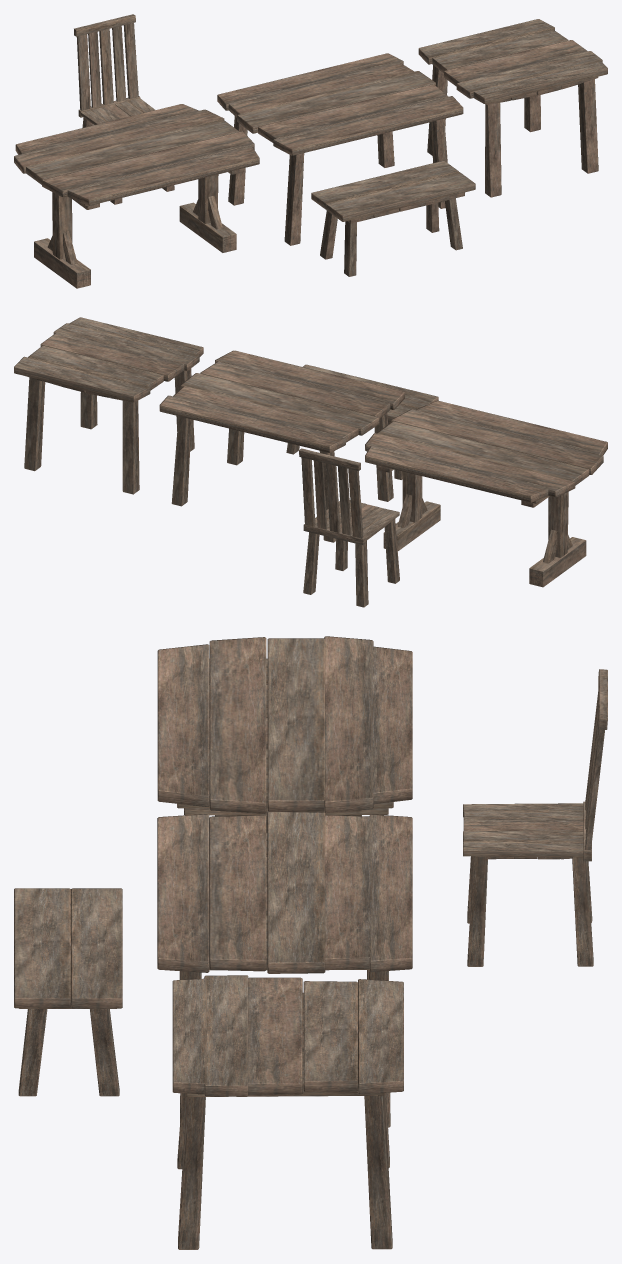
Rendered from Tables_Chairs_2A1.fbx.
The picture shows the model from 3 angles, top to bottom: view 1: azimuth 30°, elevation 25°; view 2: azimuth 150°, elevation 25°; view 3: azimuth 270°, elevation 25°; orthographic projection. The views are drawn at different scales.
Visible parts, largest first — view 1: Table_2B1, Table_2A2, Table_2A1, Bench_2A1, Chair_1A1; view 2: Table_2B1, Table_2A2, Table_2A1, Chair_1A1, Bench_2A1; view 3: Table_2B1, Table_2A2, Table_2A1, Bench_2A1, Chair_1A1.
Boxes of the visible parts, x1,y1,x2,y2 form: Table_2B1: (14, 104, 259, 288); Table_2A2: (217, 53, 463, 245); Table_2A1: (418, 19, 607, 197); Bench_2A1: (311, 160, 475, 276); Chair_1A1: (74, 14, 174, 204); Table_2B1: (365, 400, 607, 587); Table_2A2: (159, 350, 404, 542); Table_2A1: (14, 317, 203, 494); Chair_1A1: (299, 448, 399, 607); Bench_2A1: (286, 364, 438, 479); Table_2B1: (157, 636, 412, 832); Table_2A2: (157, 811, 412, 1127); Table_2A1: (172, 975, 403, 1249); Bench_2A1: (14, 888, 122, 1096); Chair_1A1: (463, 669, 607, 966).
Bounding box in the file's own units: 546 × 142 × 304.
